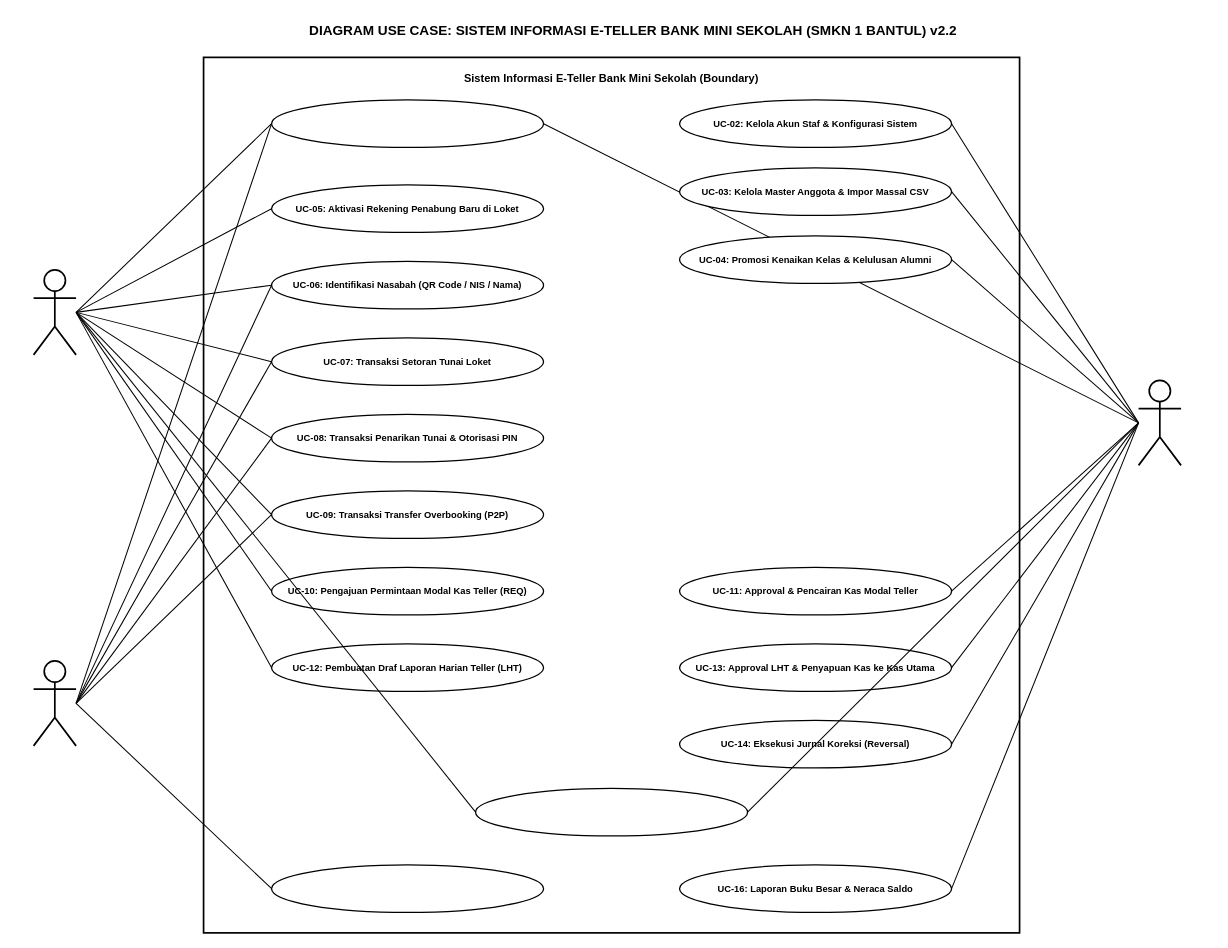
The diagram is 1228 pixels wide and 948 high, and some of its shapes have lost their labels. The centre of each missing label's shape, as x and y in pixels:
Administrator (Pengawas Institusi): the point at 1159,422
Nasabah Siswa (Savers): the point at 54,703
Petugas Loket (Teller): the point at 54,312
UC-01: Login Terpusat & Reset Password via Email OTP: the point at 407,123
UC-15: Pengajuan & Approval Penutupan Rekening Lulus: the point at 611,811
UC-17: Layanan Mandiri Siswa via Aplikasi Mobile: the point at 407,888
